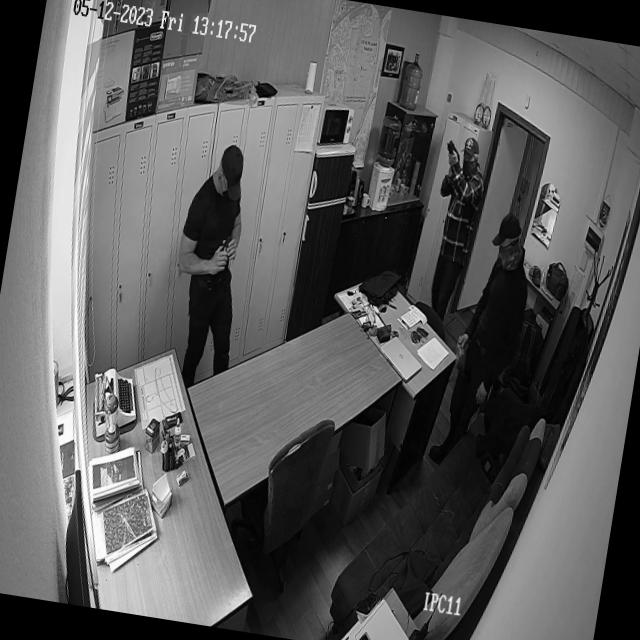gun: (442, 139, 464, 176)
person: (427, 205, 543, 480), (158, 138, 264, 398)
person with a gun: (418, 132, 492, 330)
